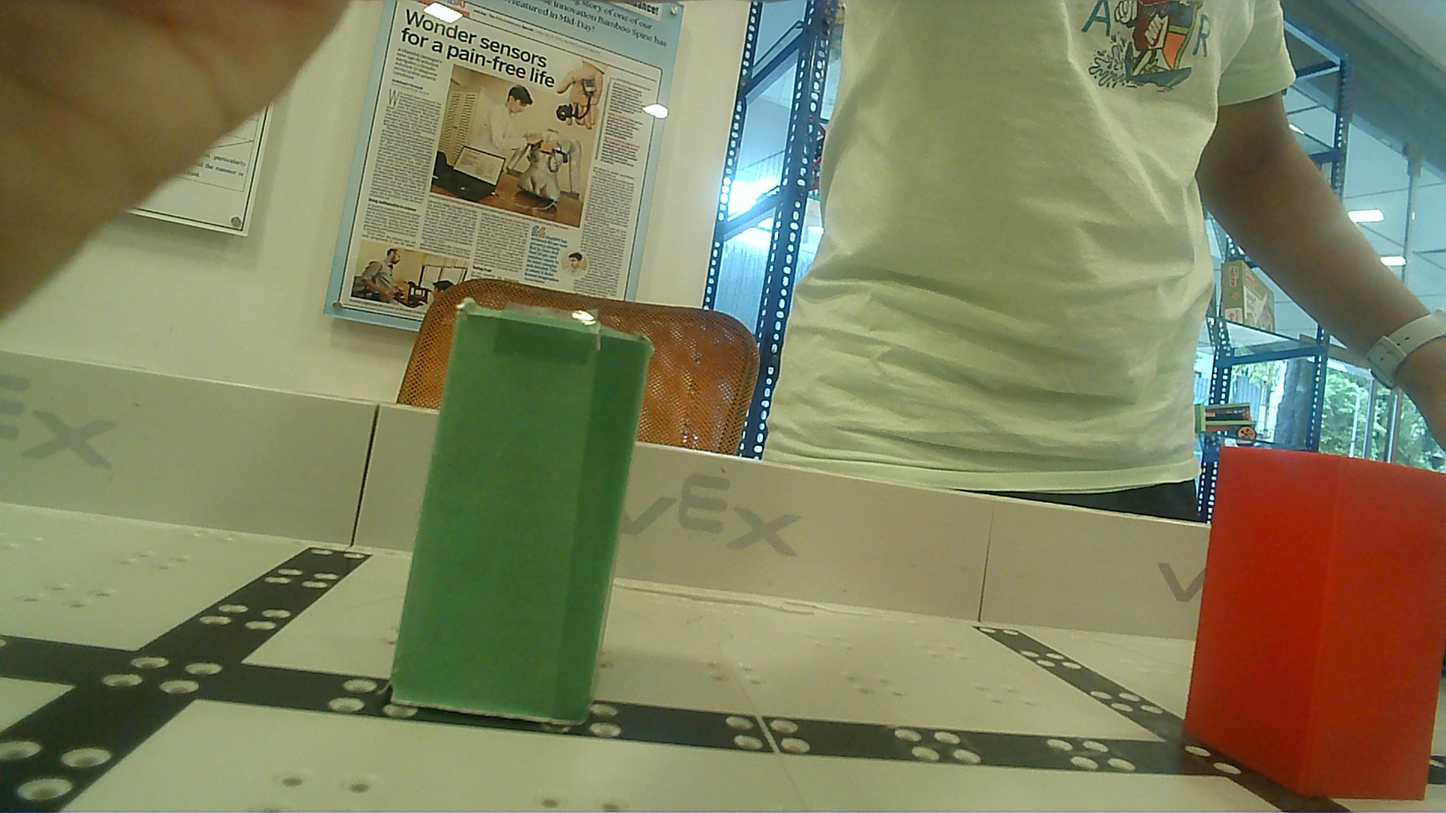green: (381, 327, 664, 725)
